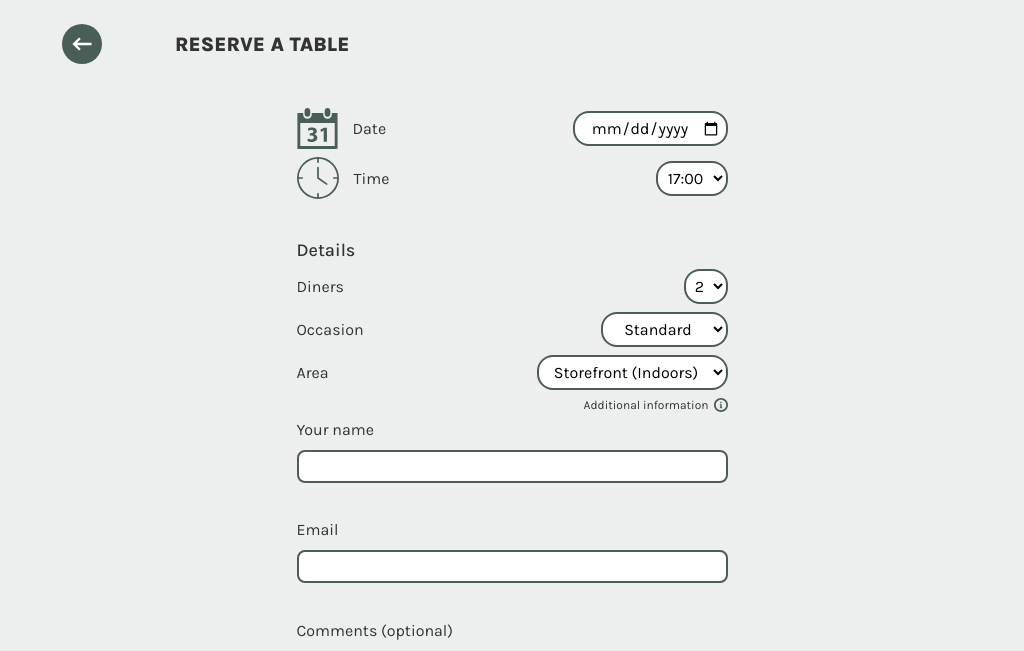
Test: Sanity tests › Clicking the next button with the form filled shows overview
Type "2023-02-28" into the date field labelled "Date" at (650, 128), box [572, 111, 728, 146]
Select "4" in the dropdown labelled "Diners" at (706, 286), box [684, 269, 728, 304]
Select "Anniversary" in the dropdown labelled "Occasion" at (664, 330), box [600, 312, 728, 347]
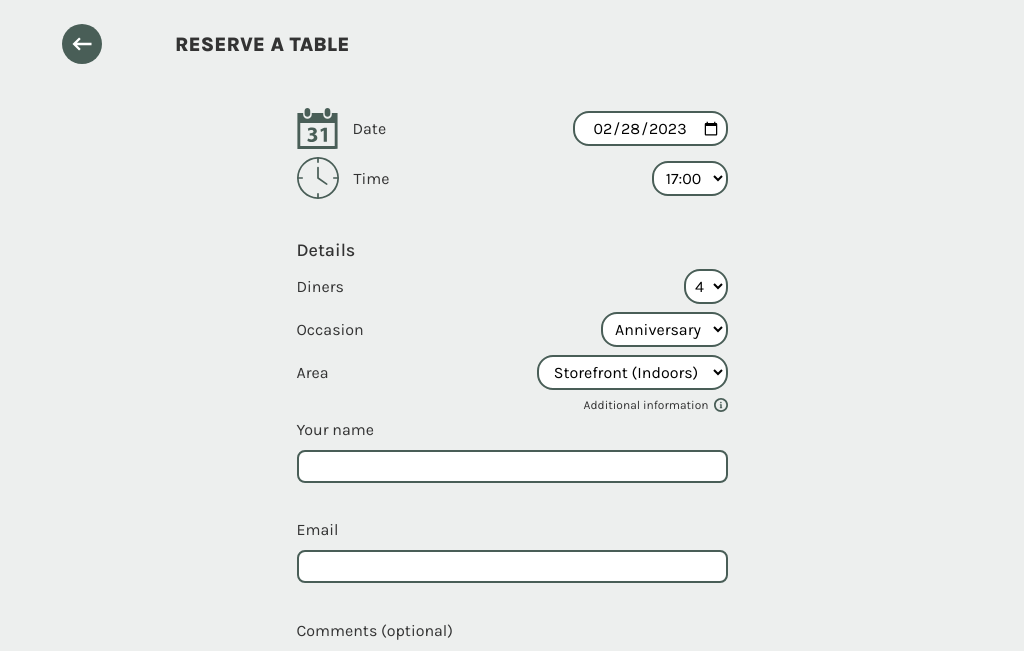
Select "Indoors (Zone B)" in the dropdown labelled "Area" at (632, 372), box [536, 355, 728, 390]
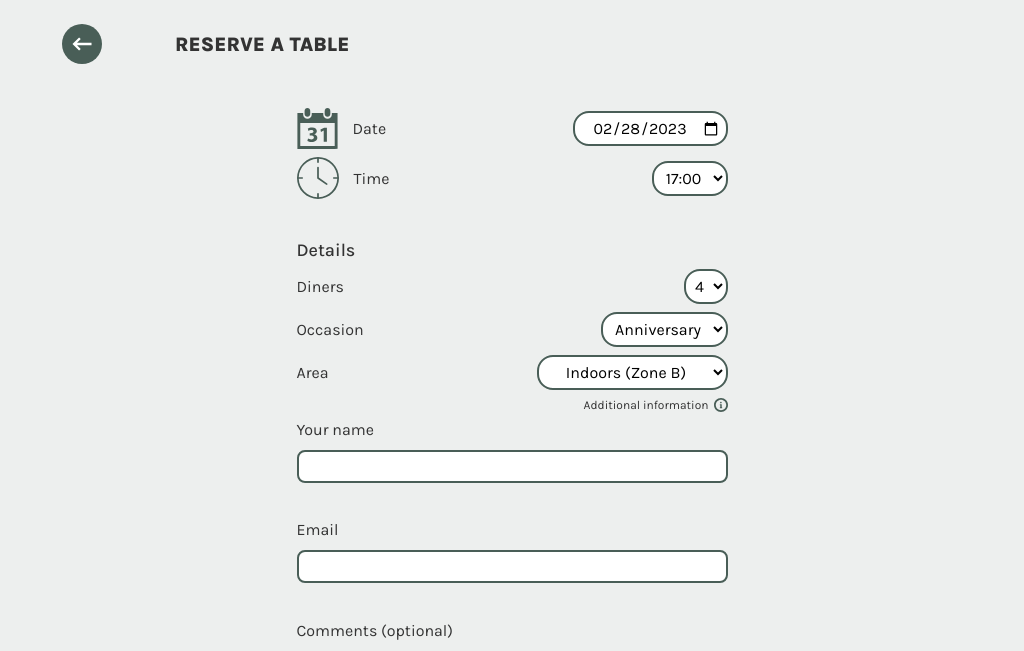
Type "Liselotte Riefenstahl" into the field labelled "Your name" at (512, 466), box [296, 450, 728, 483]
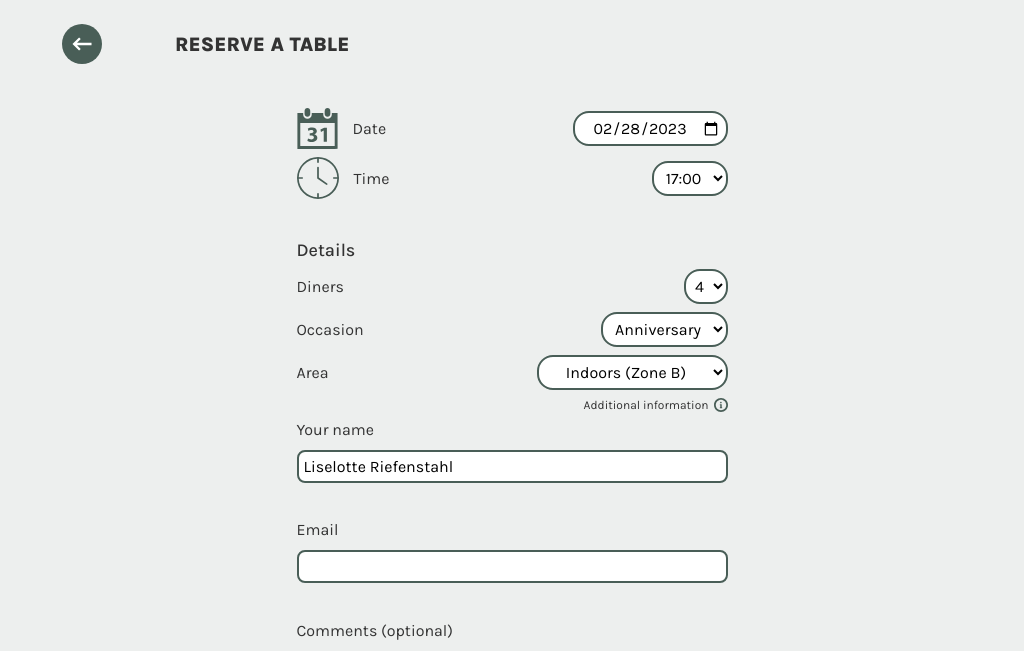
Type "lise@tsunderais.co.jp" into the field labelled "Email" at (512, 567), box [296, 550, 728, 583]
(page scrolled)
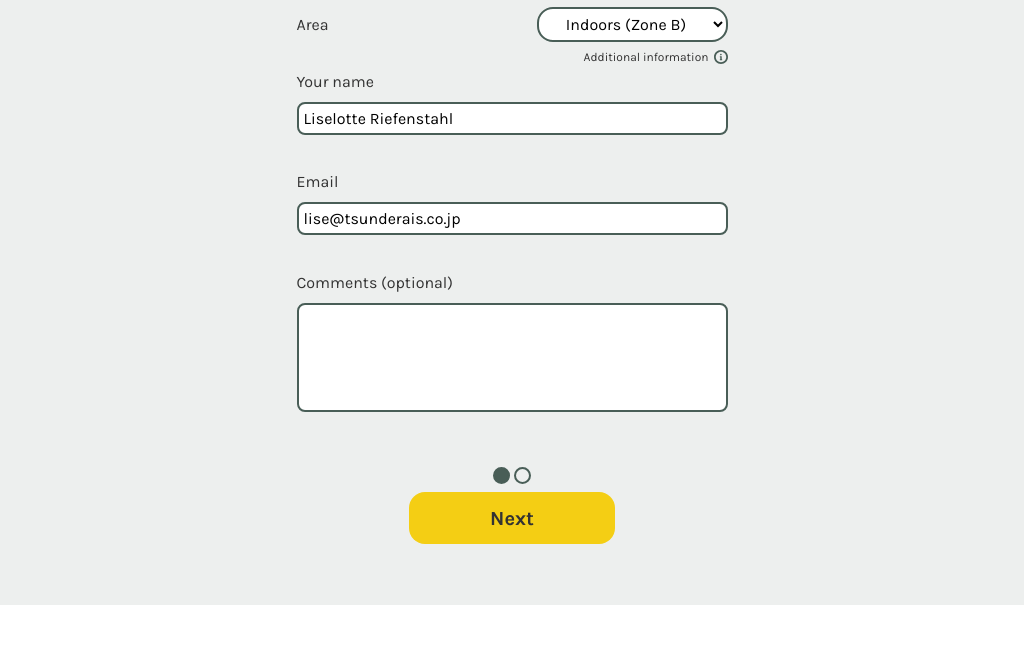
Type "Testing Library rocks" into the text box labelled "Comments (optional)" at (512, 357), box [296, 303, 728, 412]
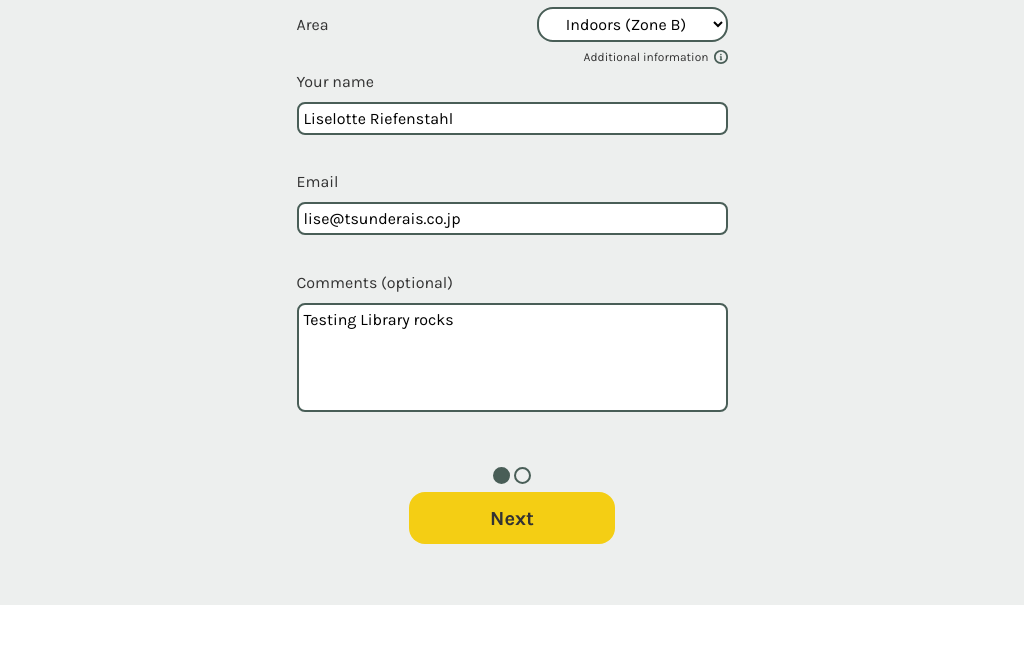
Click the button "Next" at (512, 518), box [409, 492, 615, 544]
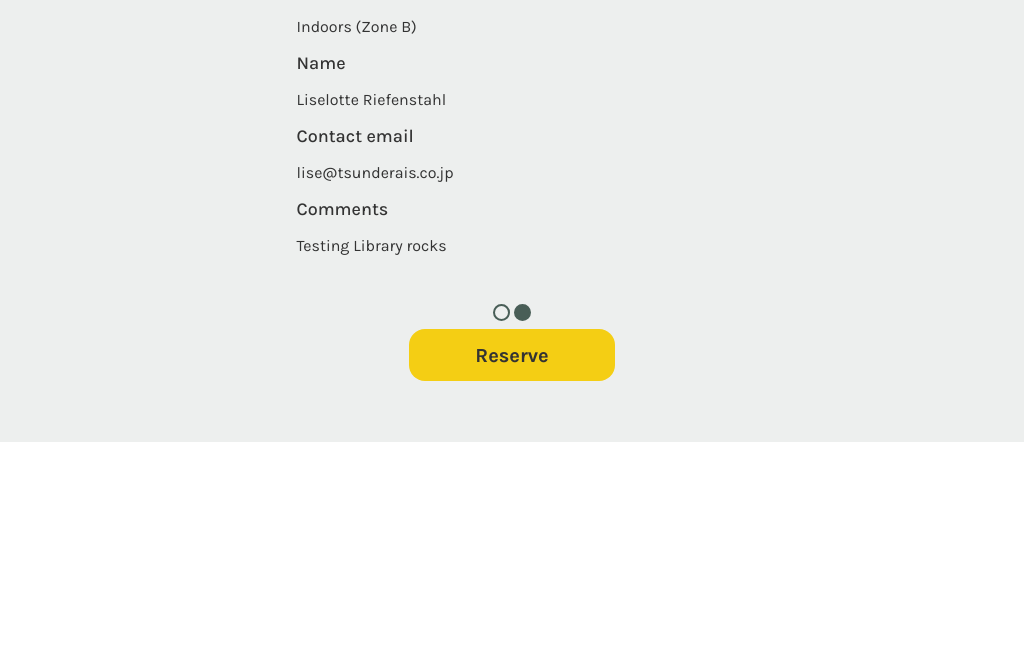
Expected: the button "Reserve" is shown, [409, 329, 615, 381]
Expected: the text "Indoors (Zone B)" is shown, [296, 17, 417, 36]
Expected: the text "Liselotte Riefenstahl" is shown, [296, 90, 446, 109]
